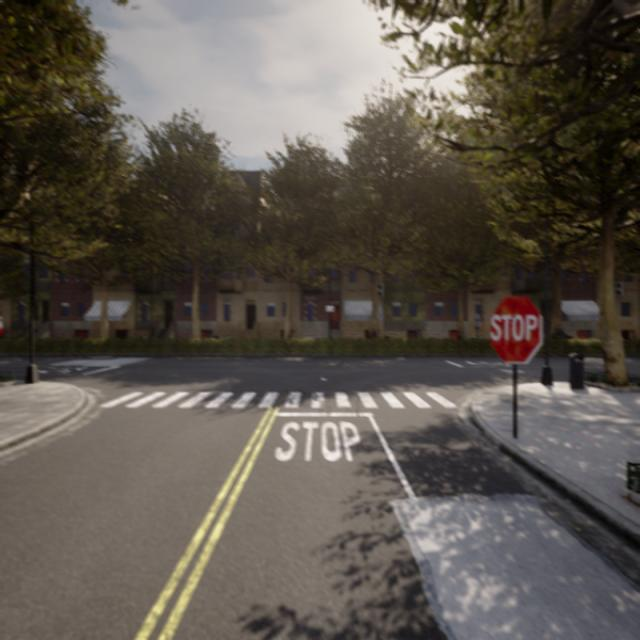stop sign: (486, 291, 544, 367), (490, 311, 539, 344)
